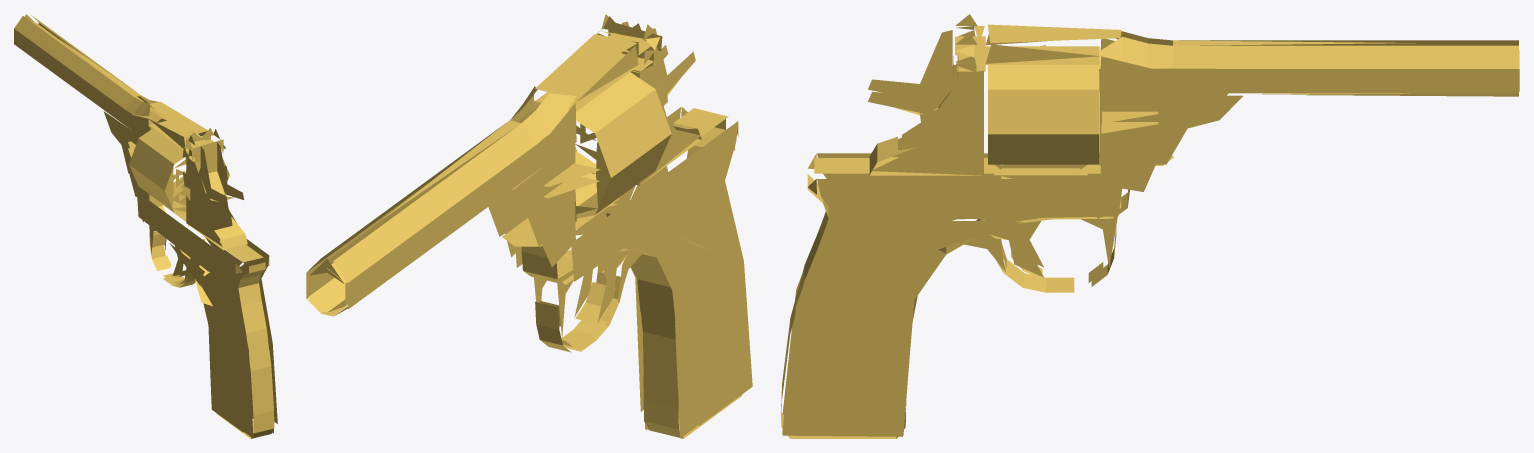
File: charm_mst_pistol_5.glb
3 views of the same model, side by side, from view 1: azimuth 30°, elevation 25°; view 2: azimuth 150°, elevation 25°; view 3: azimuth 270°, elevation 25° (orthographic). The views are drawn at different scales.
Visible parts, largest first — view 1: p0_paint; view 2: p0_paint; view 3: p0_paint.
Part boxes in pixels (x1,y1,x2,y2): p0_paint: [14, 14, 277, 438]; p0_paint: [306, 14, 752, 438]; p0_paint: [781, 14, 1519, 438].
Size of the model in its own units: 0.0442 by 0.1705 by 0.279.
